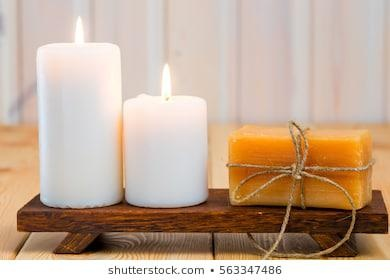fire: (157, 62, 174, 99), (71, 16, 86, 48)
